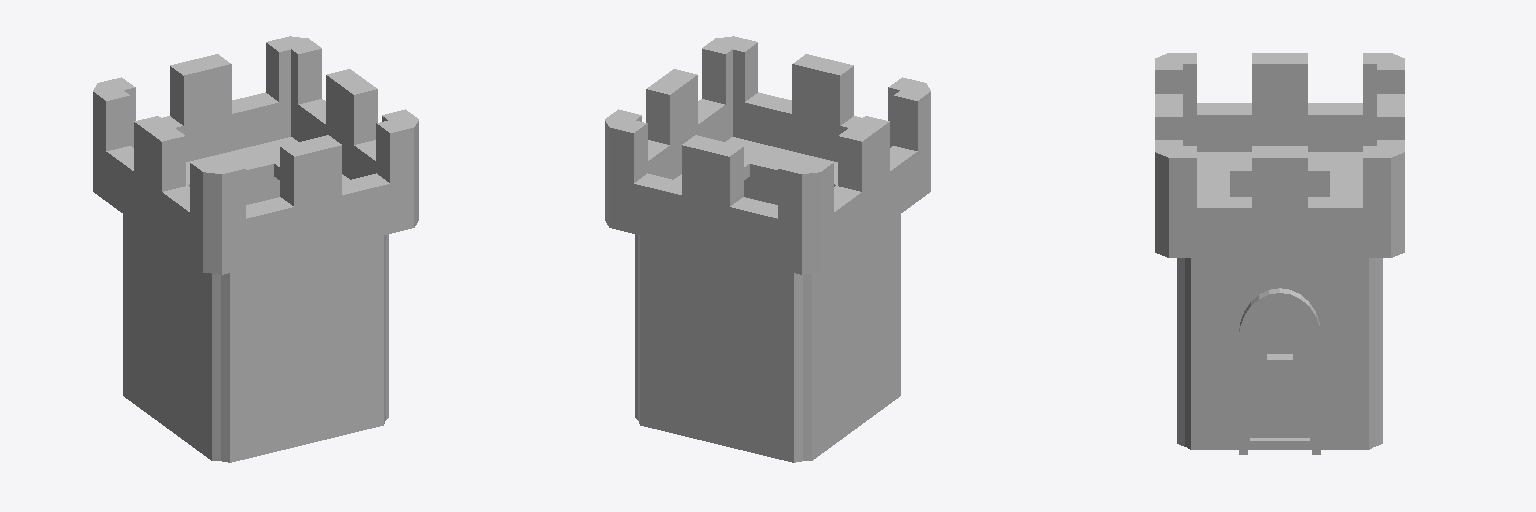
The model's file is rook-small-door-marble.obj.
3 views of the same model, side by side, from view 1: azimuth 30°, elevation 25°; view 2: azimuth 150°, elevation 25°; view 3: azimuth 270°, elevation 25° (orthographic).
Visible parts, largest first — view 1: wall_straight_5, battlement_corner_6, battlement_corner_8, wall_straight_3, floor_hole_11, wall_straight_4, wall_doorwayRound_2; view 2: battlement_corner_8, wall_straight_4, battlement_corner_6, wall_straight_3, floor_hole_11, wall_straight_5, wall_doorwayRound_2; view 3: wall_doorwayRound_2, battlement_corner_6, battlement_corner_8, door_round_12, floor_hole_11, wall_straight_4, wall_straight_5, wall_straight_3.
Part boxes in pixels (x1,y1,x2,y2): wall_straight_5: (221,235,385,462); battlement_corner_6: (203,36,418,274); battlement_corner_8: (93,37,307,270); wall_straight_3: (123,214,220,460); floor_hole_11: (94,137,418,274); wall_straight_4: (246,177,279,204); wall_doorwayRound_2: (386,234,388,419); battlement_corner_8: (606,83,930,274); wall_straight_4: (638,235,802,462); battlement_corner_6: (605,36,930,227); wall_straight_3: (803,214,900,460); floor_hole_11: (606,137,930,274); wall_straight_5: (744,177,777,204); wall_doorwayRound_2: (635,234,637,419); wall_doorwayRound_2: (1185,258,1374,454); battlement_corner_6: (1155,53,1404,257); battlement_corner_8: (1158,53,1404,157); door_round_12: (1248,303,1311,449); floor_hole_11: (1155,152,1404,257); wall_straight_4: (1375,258,1382,446); wall_straight_5: (1177,258,1184,446); wall_straight_3: (1230,184,1329,353).
Size of the model in its own units: 1.12 by 1.5 by 1.12.